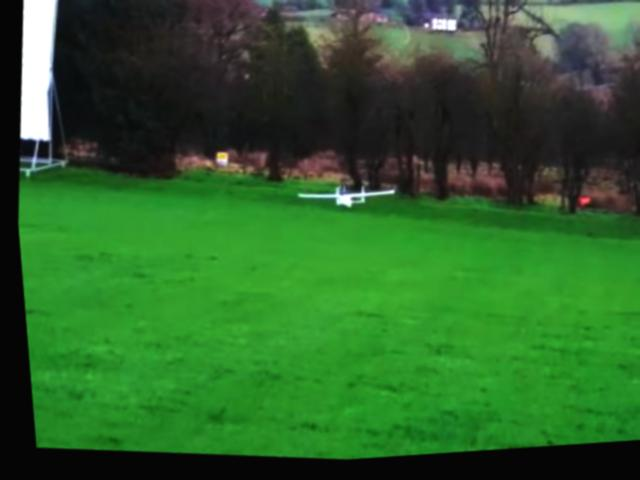uav: (286, 170, 400, 232)
